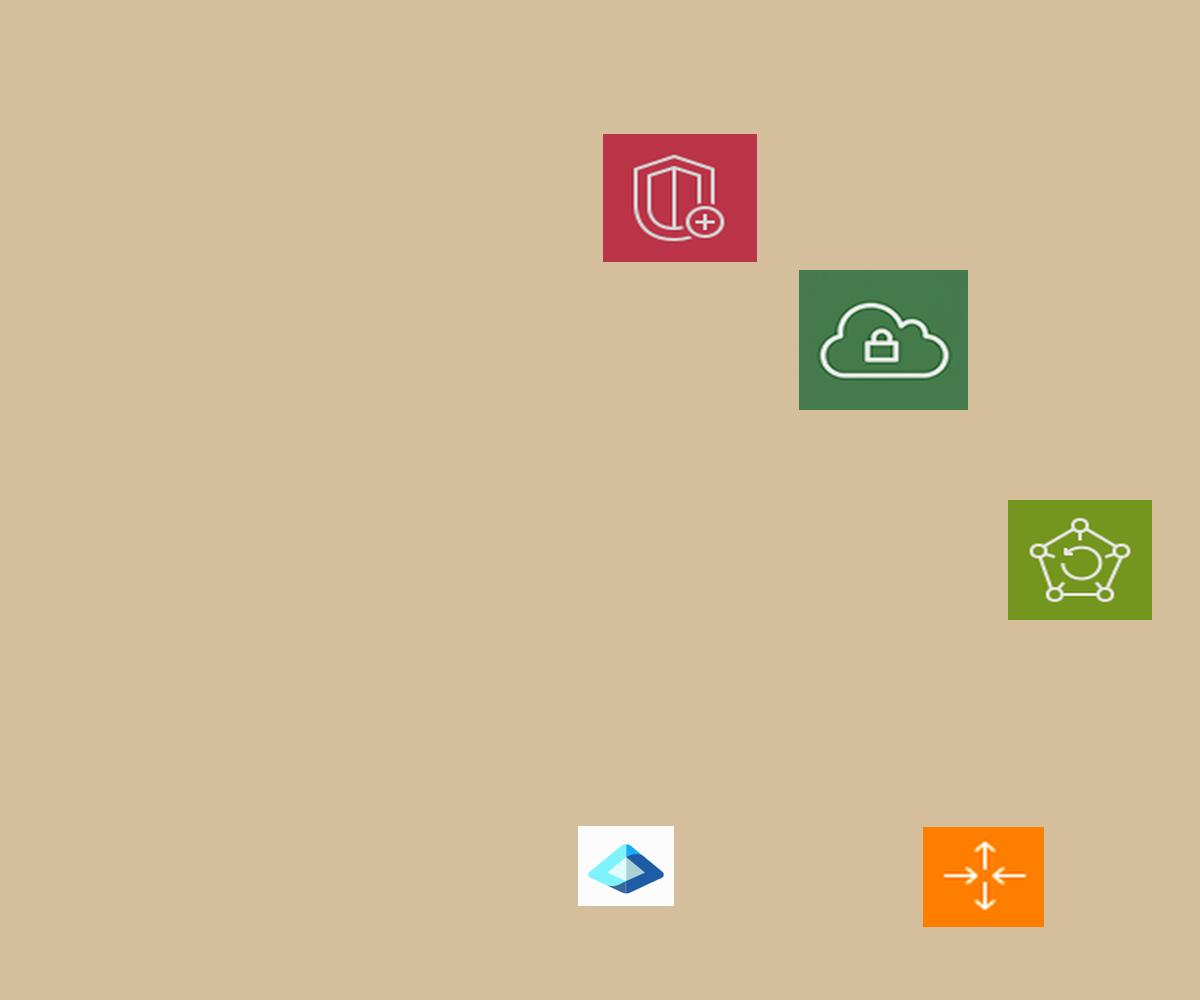AWS-Backup: (1008, 500, 1152, 620)
AWS-Private_vpc: (799, 270, 968, 410)
AWS-Scaling-group: (923, 827, 1044, 927)
AWS-Shield: (603, 134, 757, 262)
Azure_microsoft_entra: (578, 826, 674, 906)
